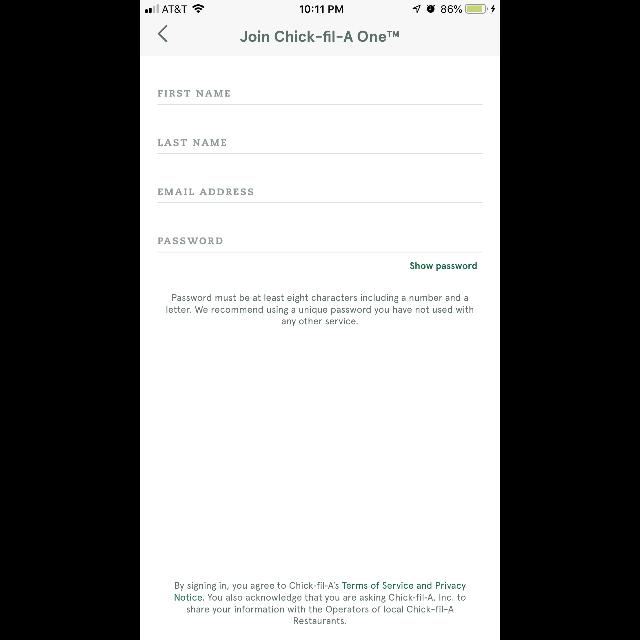icon: (158, 26, 168, 42)
input: (158, 188, 482, 204), (158, 238, 482, 252), (158, 140, 482, 154), (158, 90, 482, 104)
text: (174, 582, 466, 624), (166, 294, 474, 326), (240, 30, 400, 42), (158, 188, 254, 196), (409, 262, 476, 272), (158, 238, 222, 245), (158, 90, 230, 96), (158, 140, 226, 146)
uppertaskbar: (140, 0, 500, 14)
